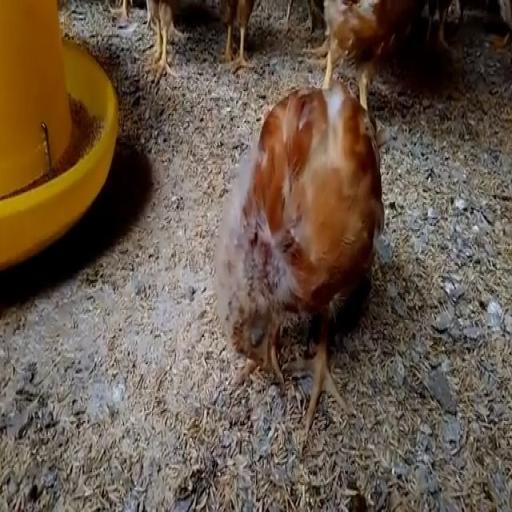disease: (228, 294, 275, 375)
